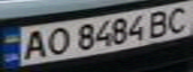4: (124, 11, 151, 43), (93, 17, 115, 48)
8: (72, 20, 96, 52), (109, 15, 133, 46)
A: (15, 28, 51, 61)
B: (145, 7, 175, 38)
C: (160, 2, 193, 34)
O: (39, 25, 72, 56)
